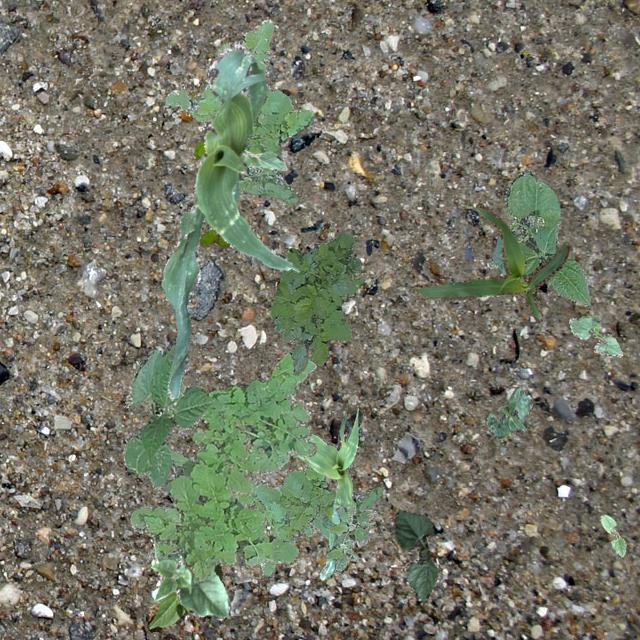crop: (160, 42, 298, 398), (412, 202, 568, 320), (122, 336, 214, 490), (490, 168, 590, 304), (294, 408, 360, 578), (149, 534, 229, 618), (144, 562, 223, 632), (390, 508, 438, 604), (484, 387, 532, 438), (568, 314, 622, 356), (598, 514, 626, 556), (238, 148, 286, 170)
weed: (130, 350, 316, 580), (165, 20, 312, 204), (235, 462, 382, 574), (270, 230, 364, 374), (192, 140, 228, 246), (324, 504, 376, 572)
